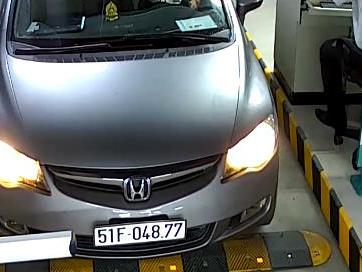number: (94, 219, 185, 244)
